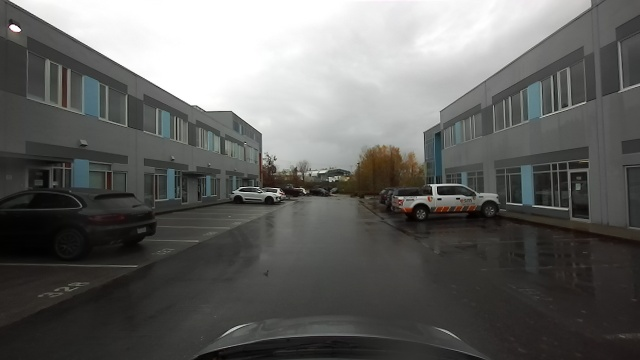car: (2, 184, 157, 259), (391, 183, 499, 221), (229, 185, 285, 203), (286, 184, 330, 202)
